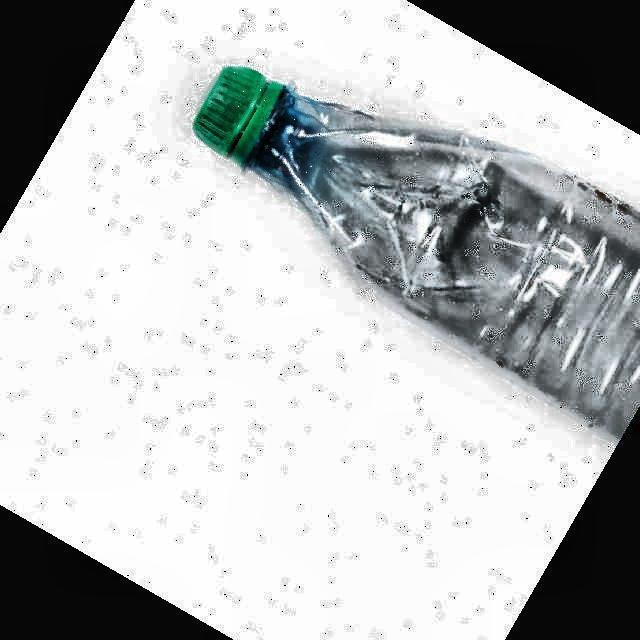plastic: (194, 66, 640, 432)
